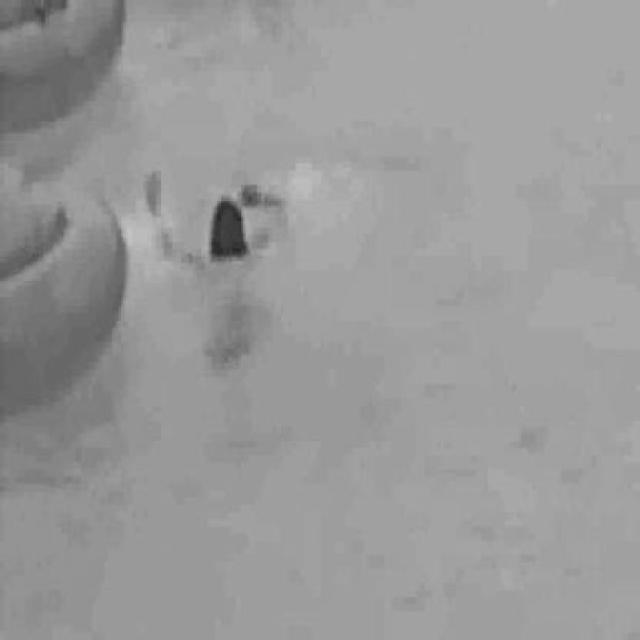drowning: (150, 170, 276, 368)
